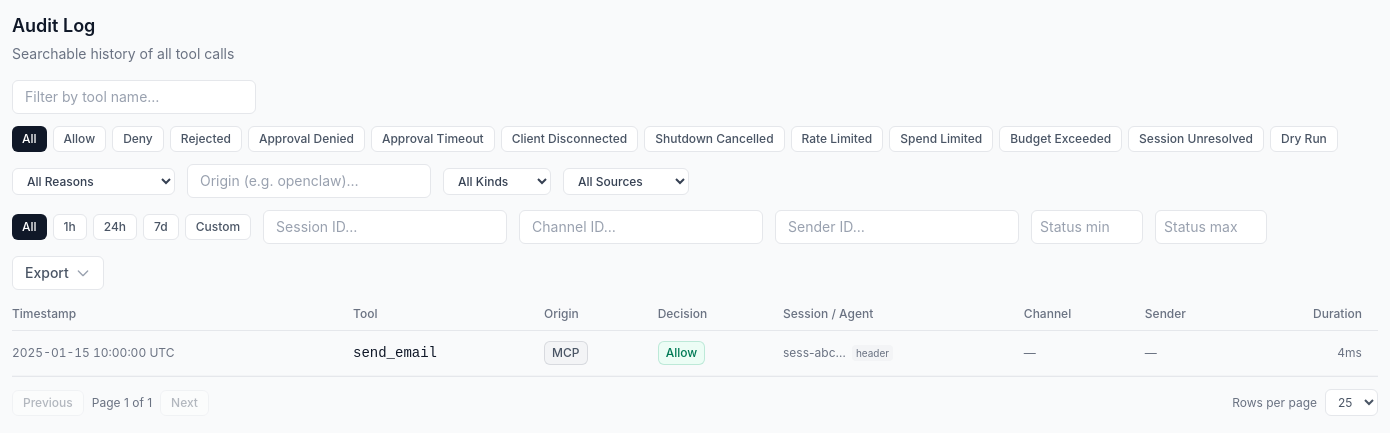
Test: upstream attribution (issue #297) › shows the no-match copy when a session_source filter matches zero records (issue #250)
The image size is (1390, 433).
Expected: the text "send_email" is shown, [353,330,544,376]
Select "legacy_header" in the dropdown named "Session Source" at (626, 181), box [563,168,689,194]
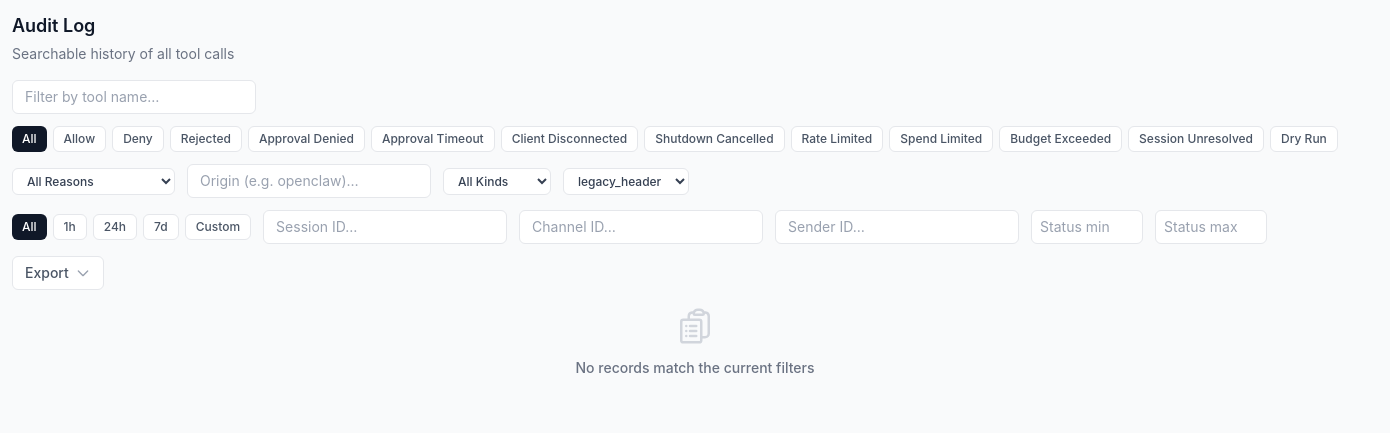
Now the text "No records match the current filters" is shown, box [576,358,814,378]
